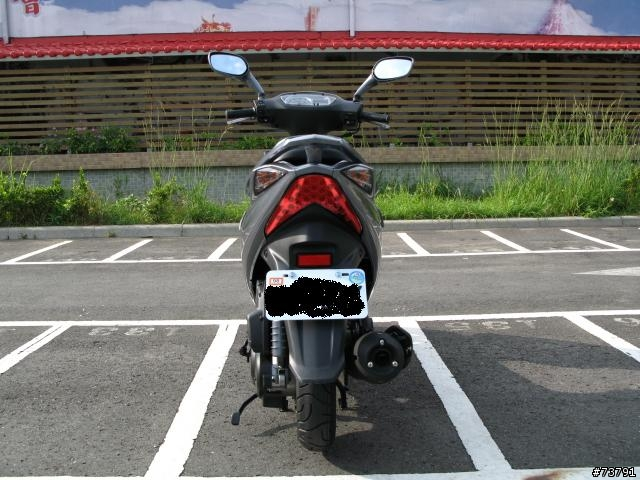motorcycle: (200, 47, 422, 453)
